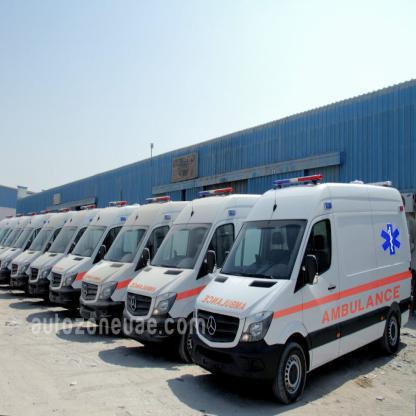Ambulance - v1 Ambulance last generate: (197, 184, 411, 384), (125, 191, 269, 352), (74, 200, 180, 333), (51, 210, 128, 302), (30, 217, 97, 290), (13, 218, 58, 288), (0, 223, 25, 277)
